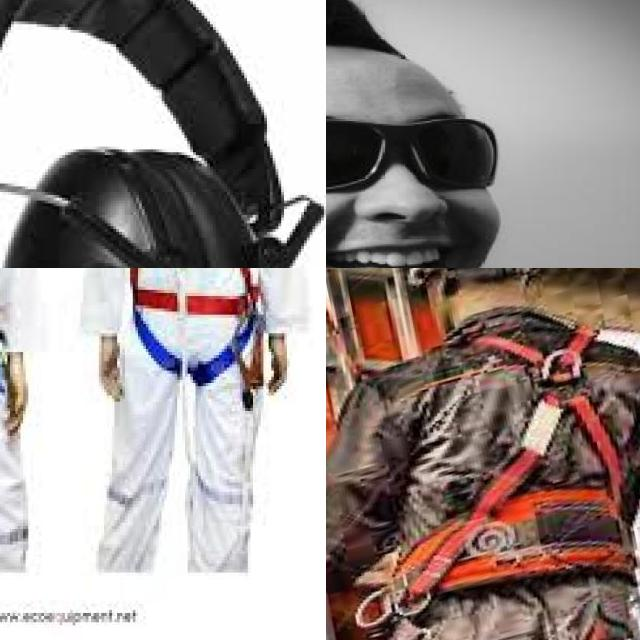Ear-protection: (0, 135, 195, 268)
Harness: (396, 328, 626, 604), (130, 268, 264, 386)
face_nomask: (326, 114, 495, 268)
glasses: (326, 121, 499, 189)
head_nohelmet: (326, 6, 419, 91)
